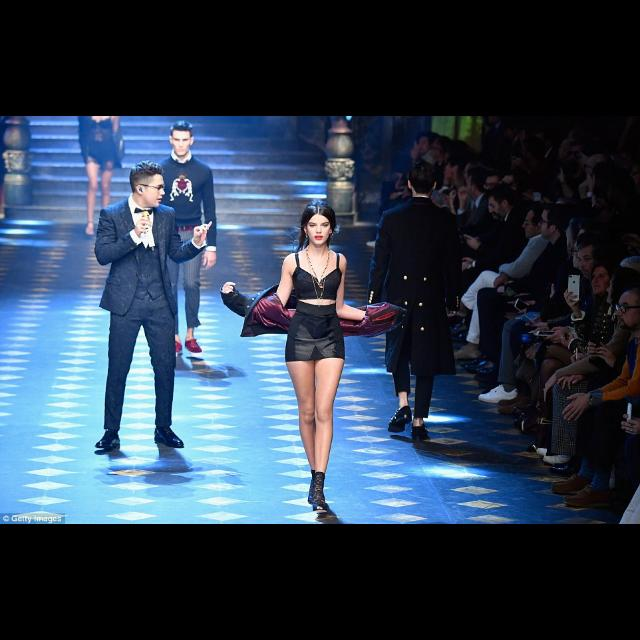head: (474, 218, 606, 388), (130, 162, 167, 208), (576, 238, 610, 282), (304, 202, 336, 248), (576, 240, 608, 280), (606, 268, 636, 306), (571, 234, 601, 272), (538, 207, 572, 240), (407, 162, 439, 196), (168, 121, 196, 157), (590, 261, 614, 297), (522, 208, 548, 240), (92, 116, 108, 124)
person: (220, 200, 408, 514), (93, 160, 213, 448), (366, 162, 462, 440), (474, 218, 606, 388), (511, 259, 625, 453), (478, 226, 602, 404), (461, 205, 581, 373), (499, 238, 611, 416), (441, 206, 563, 360), (514, 239, 626, 403), (147, 120, 219, 360), (76, 116, 126, 238)
